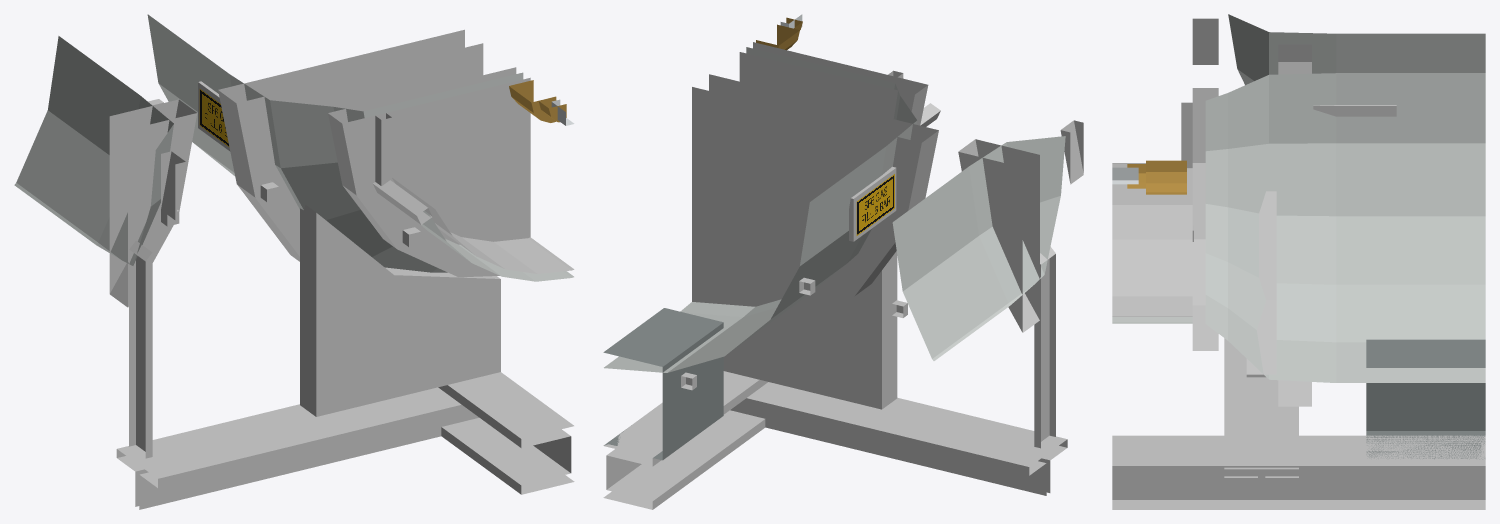
The model's file is cell_53.obj.
3 renders of one model, left to right at view 1: azimuth 30°, elevation 25°; view 2: azimuth 150°, elevation 25°; view 3: azimuth 270°, elevation 25°, orthographic. The views are drawn at different scales.
Bounding box in the file's own units: 1 × 1 × 1.
